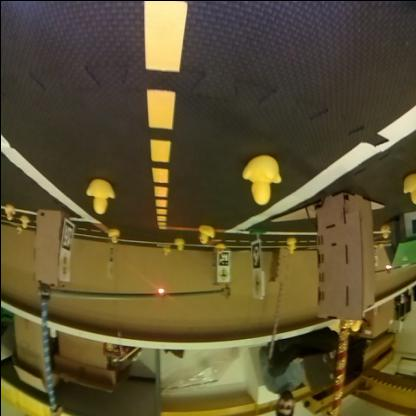Duckie: (241, 158, 281, 204), (84, 180, 115, 213), (402, 176, 414, 204), (198, 225, 213, 243), (107, 229, 117, 242), (5, 206, 12, 220), (174, 239, 182, 251), (380, 226, 388, 238), (285, 238, 293, 248), (19, 215, 26, 225), (215, 244, 222, 252), (162, 248, 167, 256)
Intersection sign: (252, 272, 260, 294), (217, 269, 227, 280)
QR code: (60, 223, 71, 247), (250, 245, 258, 268), (216, 252, 228, 265)
Signal sign: (58, 254, 67, 278)
Traffic light: (156, 288, 161, 296)
